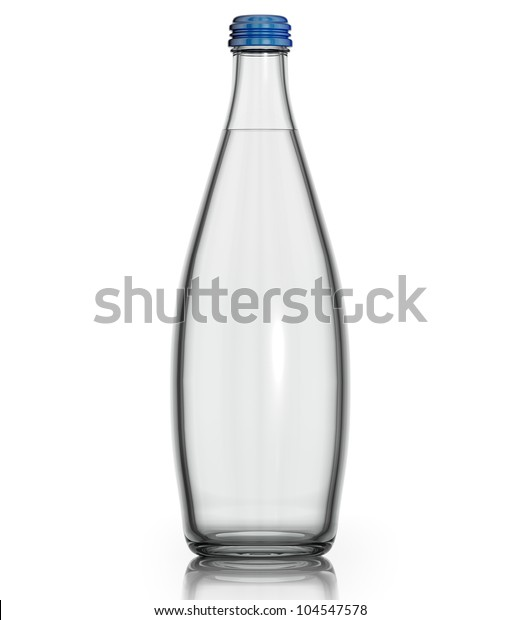glass_bottle: (161, 9, 360, 572)
